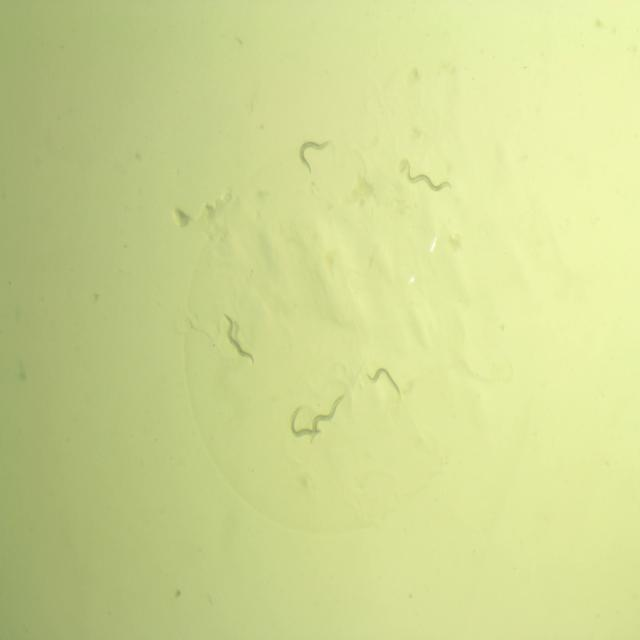worm: (308, 390, 347, 448), (220, 310, 257, 367), (404, 160, 454, 196), (296, 136, 333, 177), (286, 403, 323, 441), (365, 365, 402, 397)
